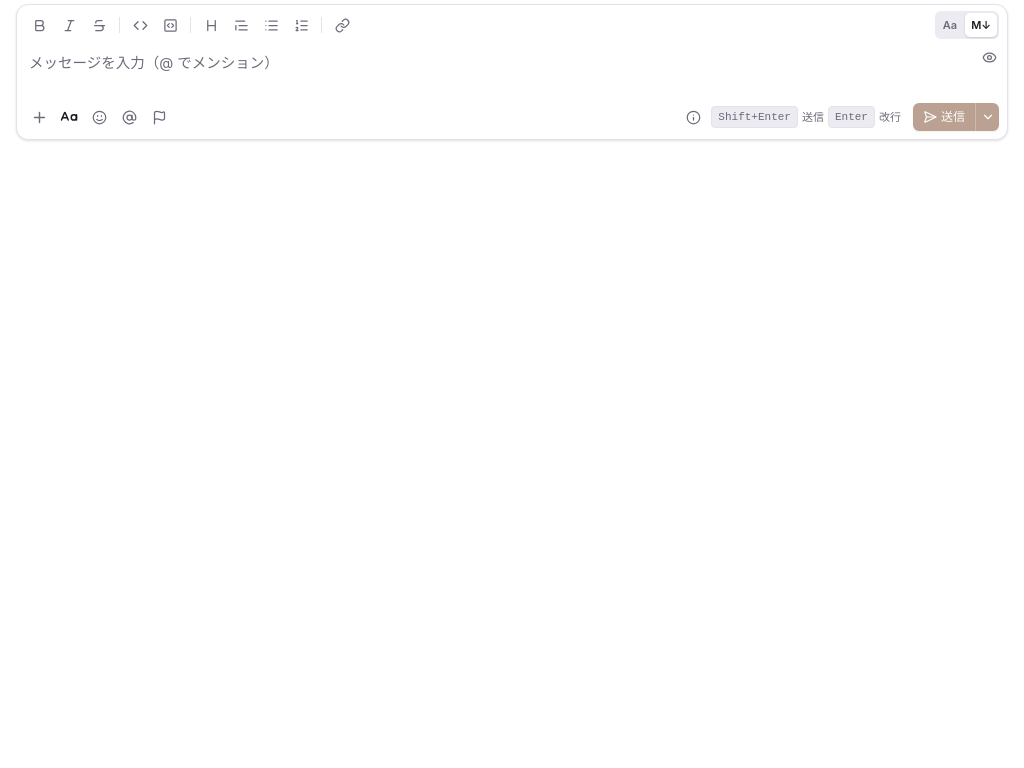
Test: /日程 (M30; a scheduling poll since M53) › 「＋」 → 「日程調整」 opens the scheduling form
Press Enter in the button named "ファイルを添付・その他", box [25, 103, 53, 131]
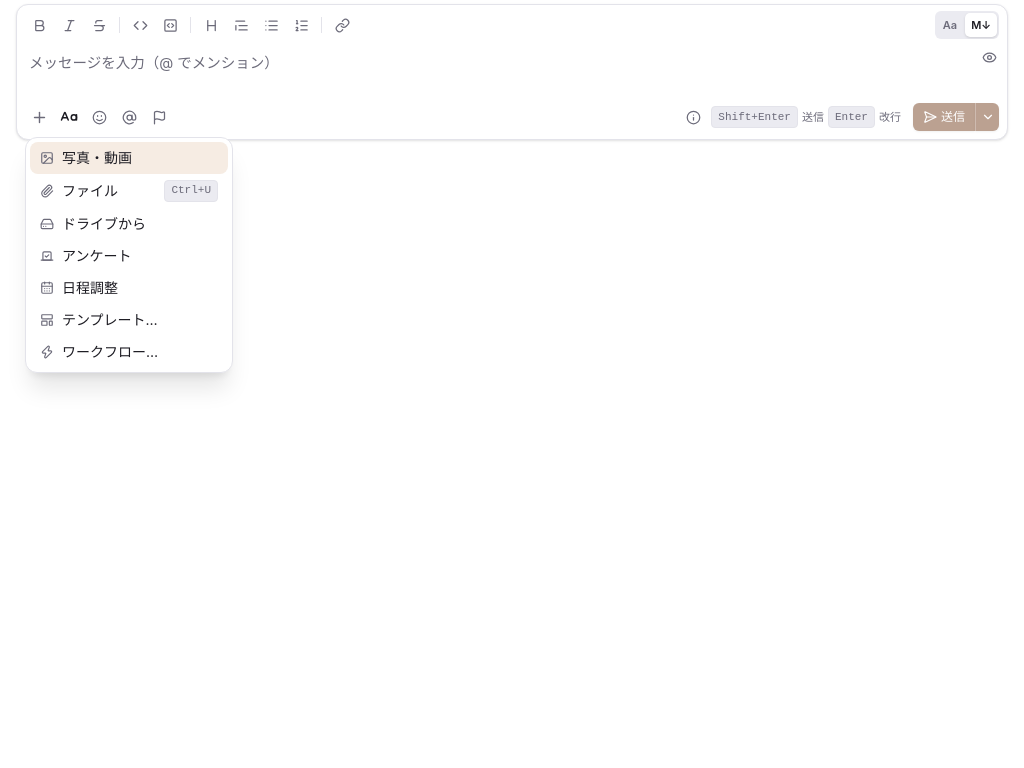
Click the menu item "日程調整". click: (79, 287)
box: [40, 279, 118, 296]
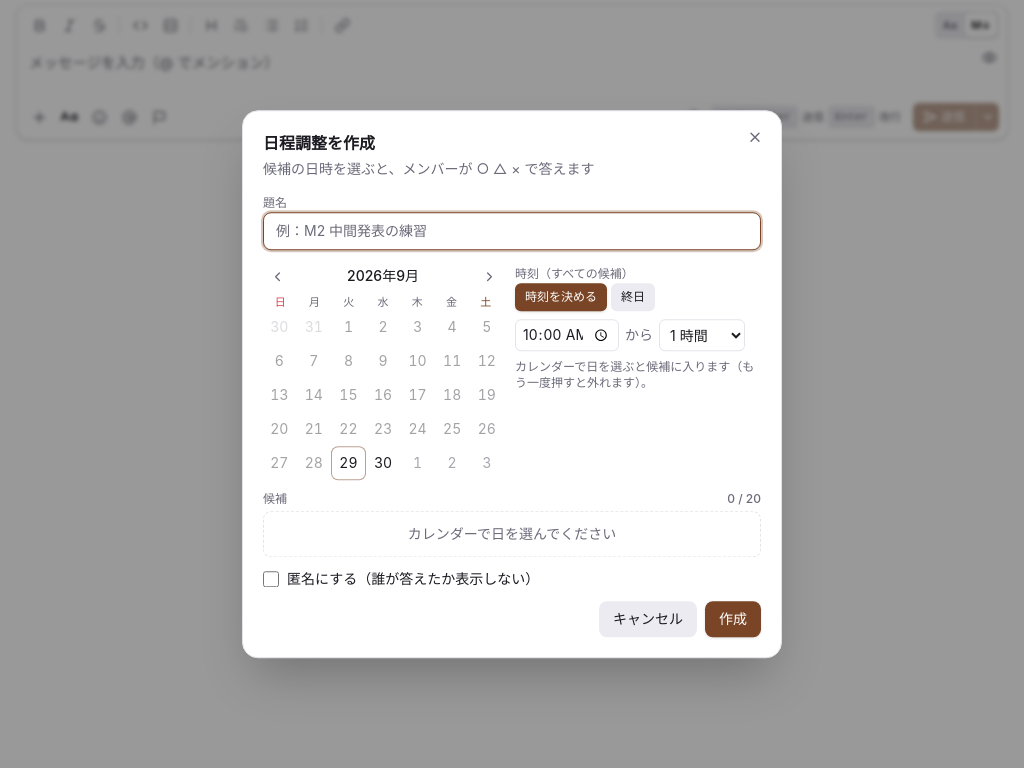
Result: the dialog "日程調整を作成" is shown at [242, 110, 782, 658]
